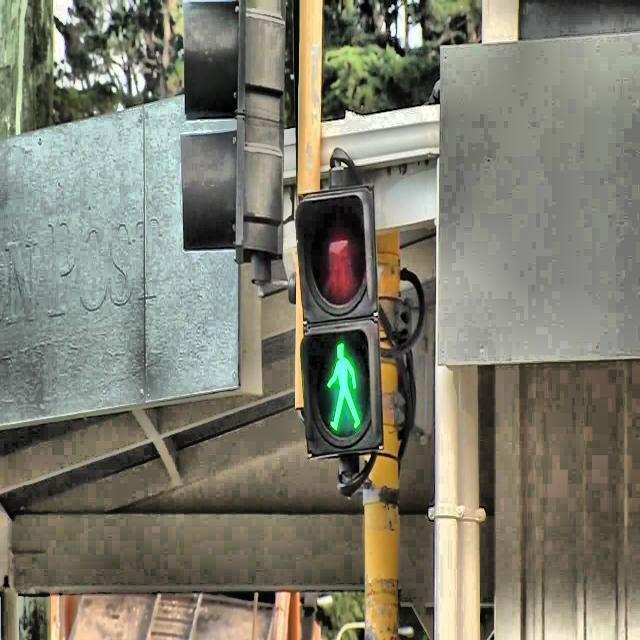green_light: (324, 338, 362, 433)
